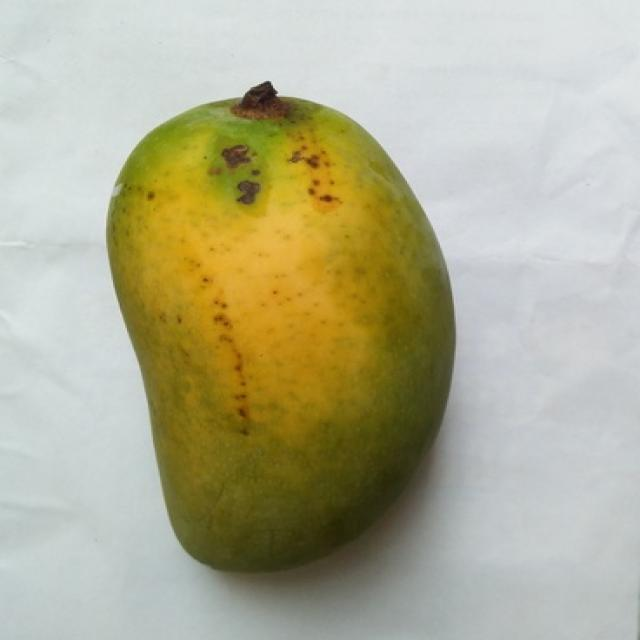Mango: (108, 97, 454, 570)
